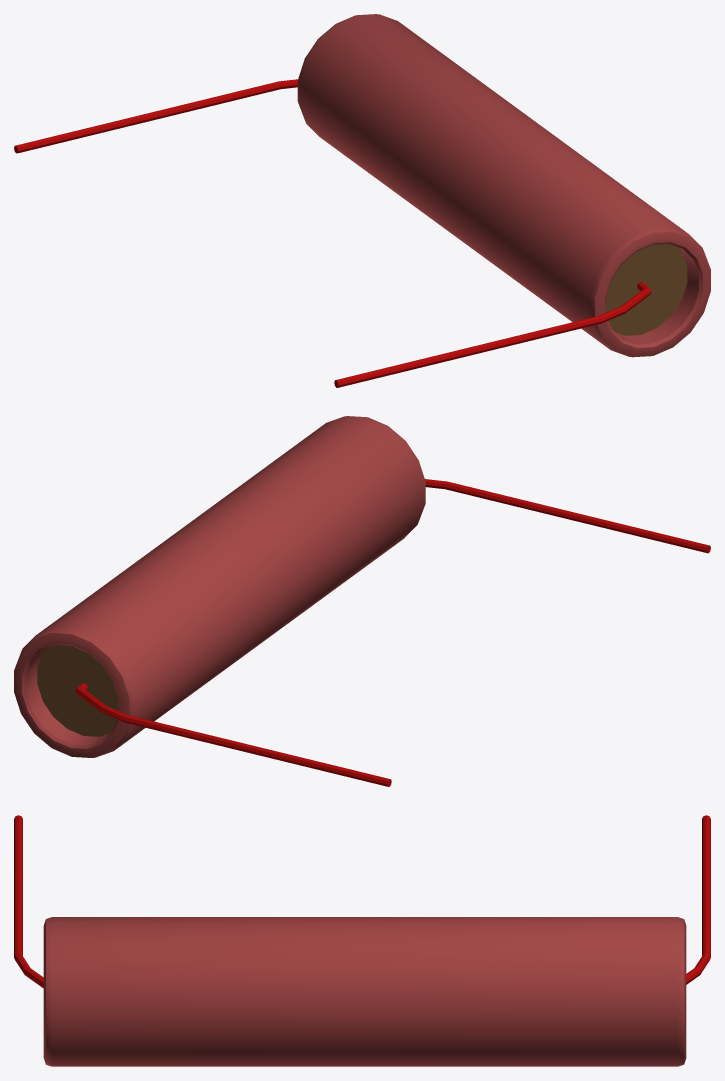
The model's file is elements021.fbx.
3 views of the same model, one above another, from view 1: azimuth 30°, elevation 25°; view 2: azimuth 150°, elevation 25°; view 3: azimuth 270°, elevation 25° (orthographic). The views are drawn at different scales.
Visible parts, largest first — view 1: element021_LOD0; view 2: element021_LOD0; view 3: element021_LOD0.
Boxes of the visible parts, left/top/right/bottom form: element021_LOD0: left=14, top=14, right=710, bottom=387; element021_LOD0: left=14, top=416, right=710, bottom=786; element021_LOD0: left=14, top=815, right=710, bottom=1066.
Size of what is drawn, in the model's own units: 1.18 by 0.3666 by 1.7.
